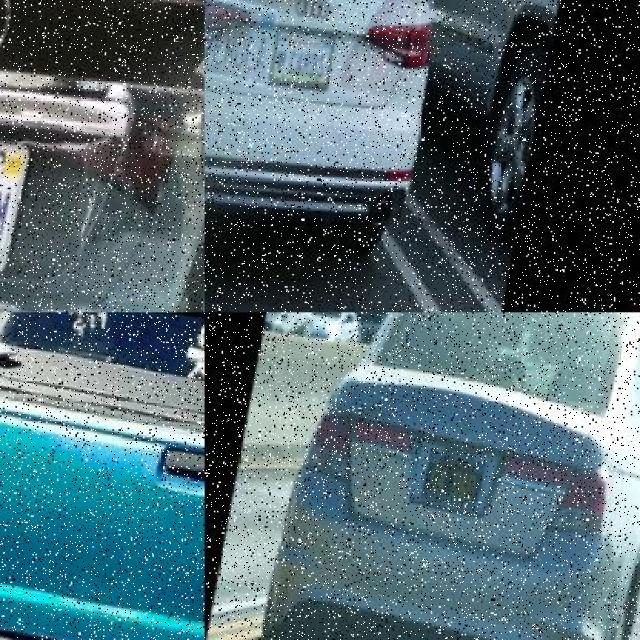licenseplate: (0, 129, 71, 271), (427, 439, 495, 512)
